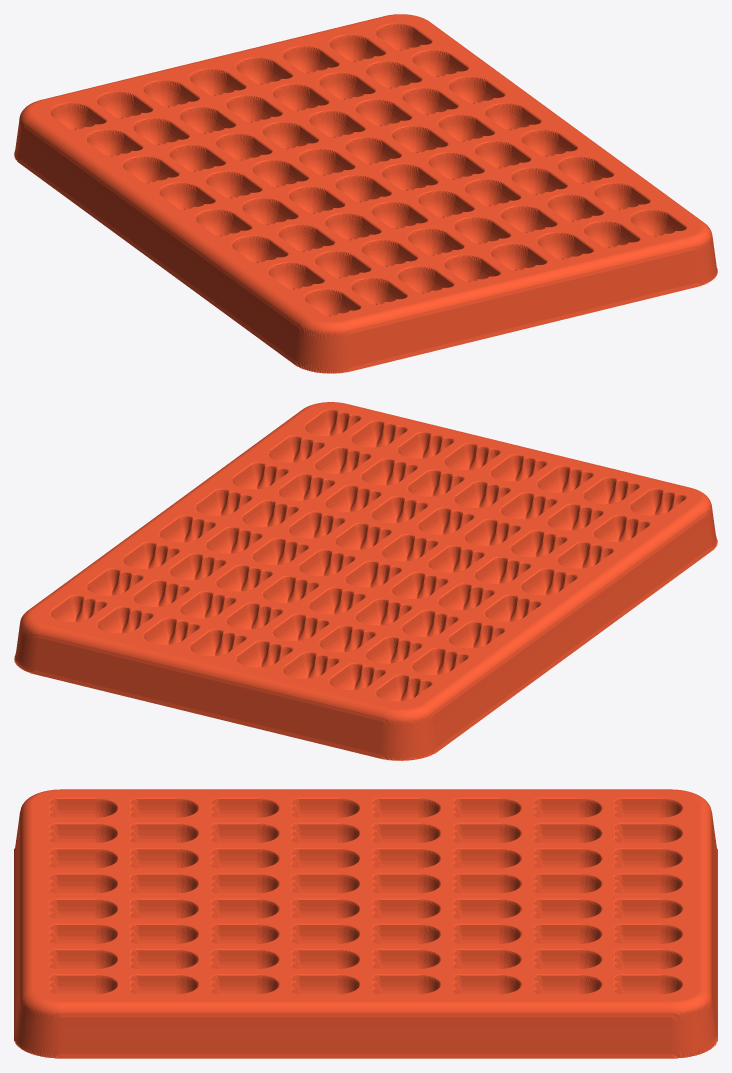
The model's file is mold.glb.
3 views of the same model, one above another, from view 1: azimuth 30°, elevation 25°; view 2: azimuth 150°, elevation 25°; view 3: azimuth 270°, elevation 25° (orthographic). The views are drawn at different scales.
Visible parts, largest first — view 1: geometry_0; view 2: geometry_0; view 3: geometry_0.
Boxes of the visible parts, x1=… form: geometry_0: x1=14, y1=14, x2=717, y2=373; geometry_0: x1=14, y1=402, x2=717, y2=760; geometry_0: x1=14, y1=789, x2=717, y2=1058.
Bounding box in the file's own units: 0.1031 × 0.0105 × 0.1355.
